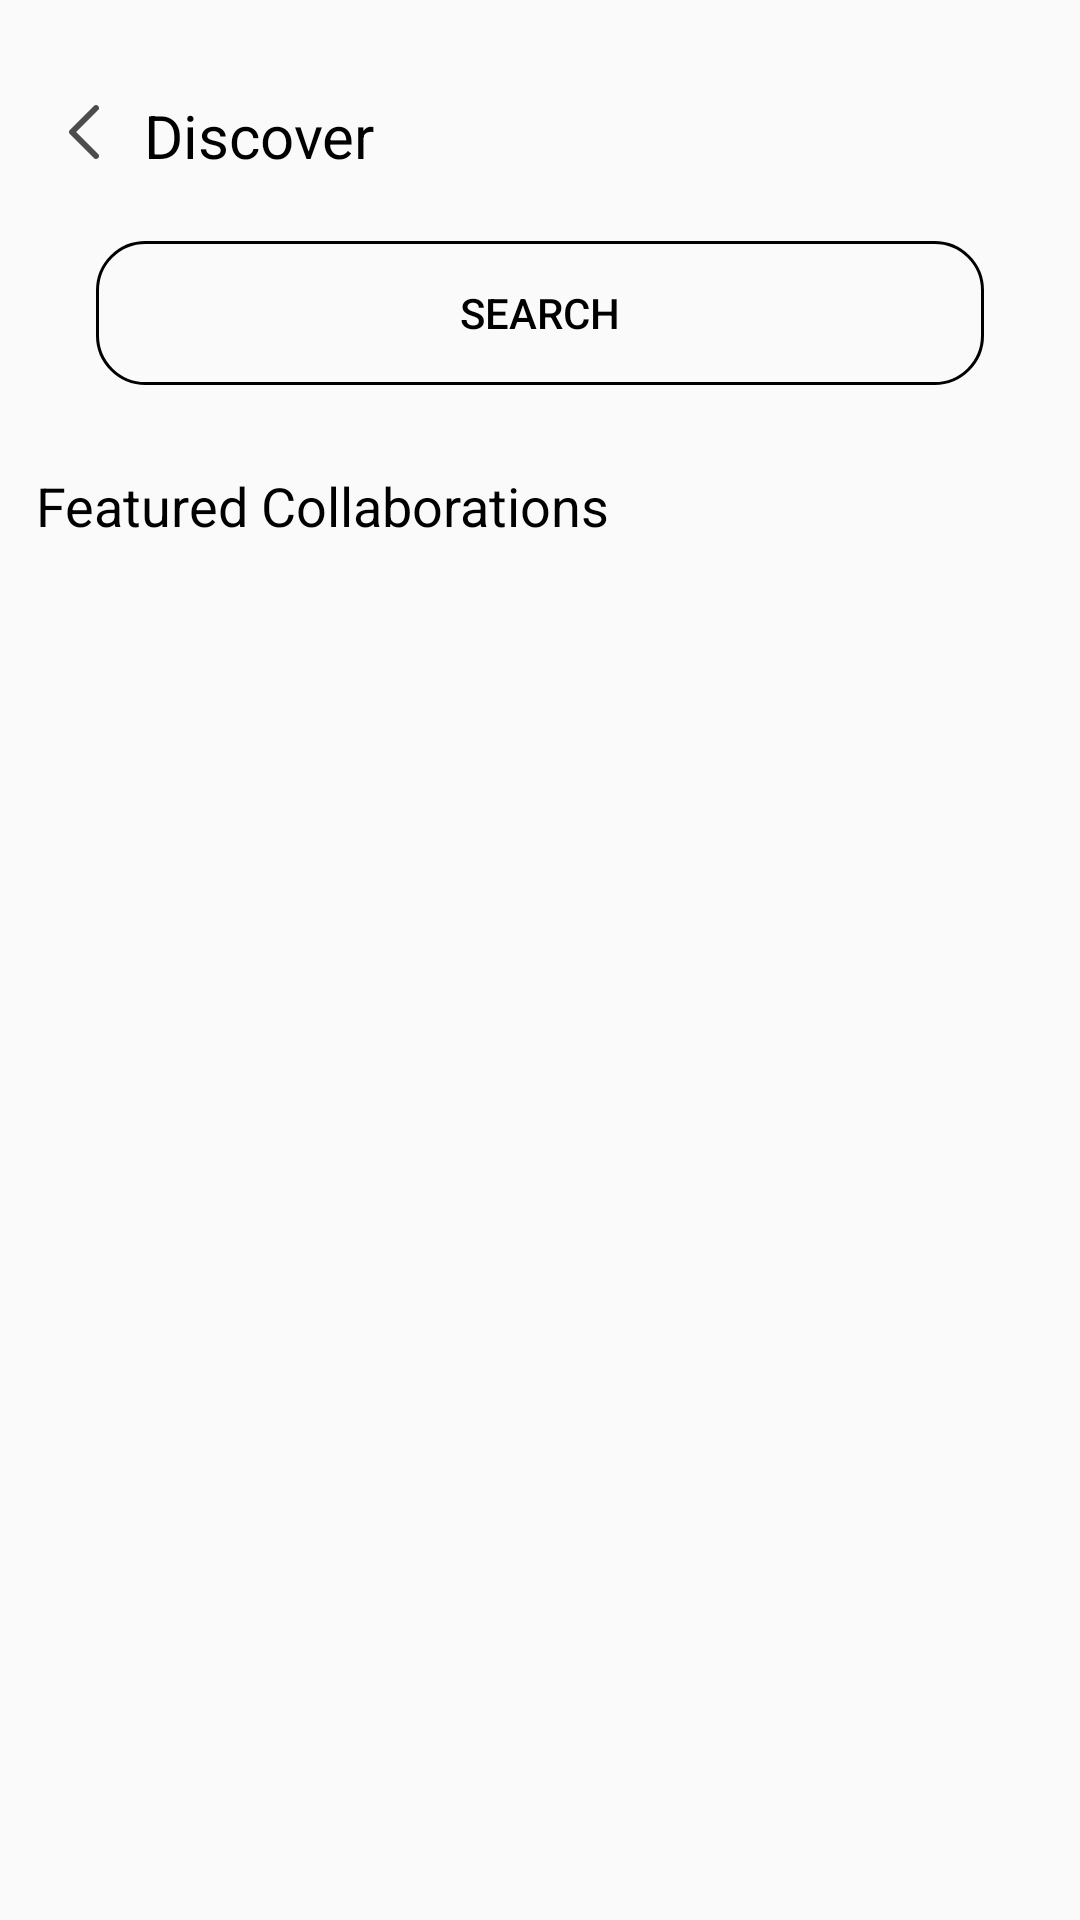

Point at icon controls on the screen. Image size 1080x1920, points as point (x, y).
arrow: point (84, 132)
